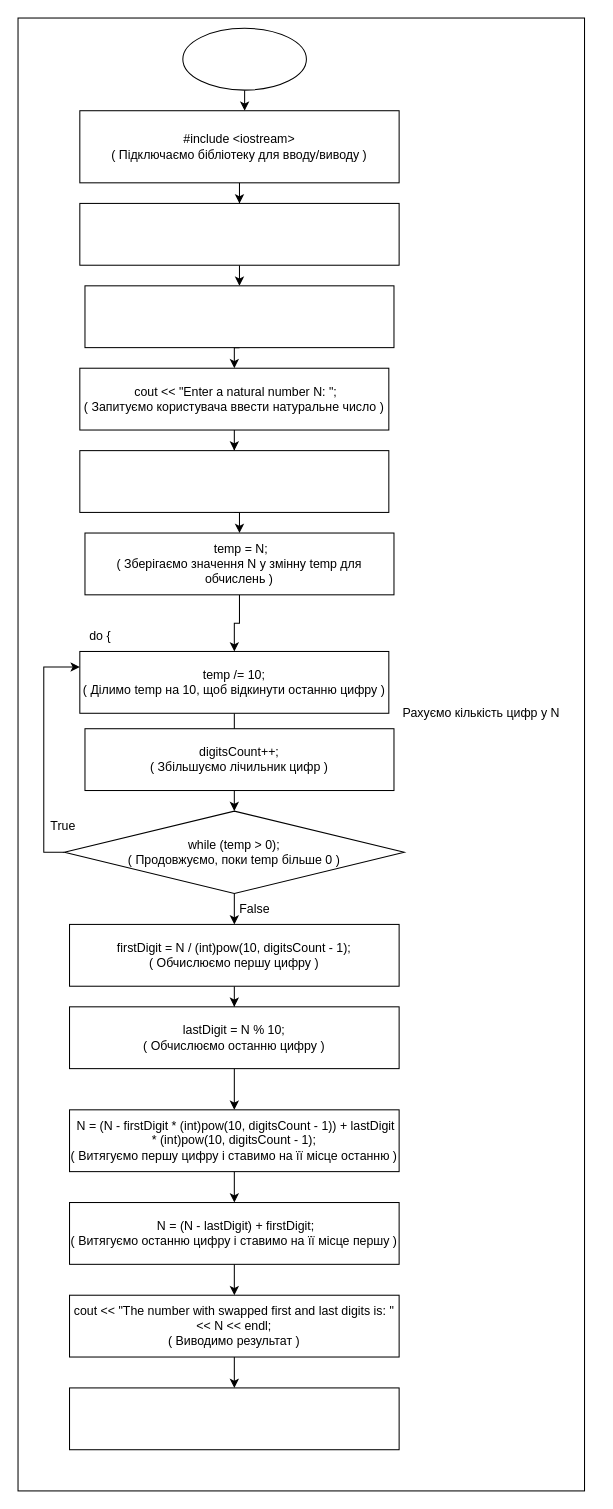
Image size: 613x1509. Some labels were removed from this diagram. Here are the shapes that lost their labels. From the top down, the centre of each, then its label:
At point 244,58: "Початок".
At point 239,233: "using namespace std; ( стандартні елементи без префікса std:: )".
At point 239,316: "int N, temp, lastDigit, firstDigit, digitsCount = 0; ( Оголошуємо змінні )".
At point 234,481: "cin >> N; ( Зчитуємо введене число )".
At point 233,1418: "return 0; ( Завершуємо програму )".
